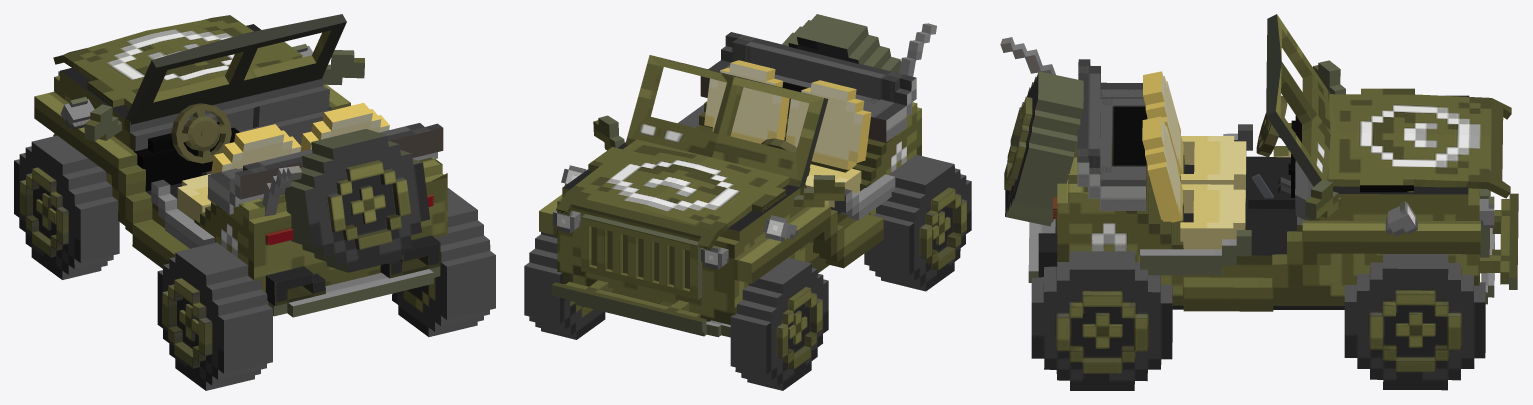
Rendered from drive_jeep.glb.
3 views of the same model, side by side, from view 1: azimuth 30°, elevation 25°; view 2: azimuth 150°, elevation 25°; view 3: azimuth 270°, elevation 25° (orthographic). The views are drawn at different scales.
Visible parts, largest first — view 1: Object_46, Object_4, Object_9, Object_21, Object_44, Object_14, Object_43, Object_12, Object_41, Object_15, Object_6, Object_47 (+20 smaller); view 2: Object_9, Object_4, Object_20, Object_70, Object_17, Object_43, Object_14, Object_12, Object_44, Object_15, Object_58, Object_61 (+22 smaller); view 3: Object_9, Object_4, Object_40, Object_35, Object_38, Object_70, Object_47, Object_7, Object_20, Object_41, Object_36, Object_80 (+20 smaller).
Boxes of the visible parts, box(x1,y1,x2,y2) form: Object_46: box(305, 135, 429, 272); Object_4: box(54, 71, 447, 305); Object_9: box(53, 15, 302, 108); Object_21: box(126, 14, 346, 124); Object_44: box(158, 242, 272, 390); Object_14: box(14, 142, 80, 279); Object_43: box(157, 253, 223, 390); Object_12: box(34, 91, 189, 268); Object_41: box(428, 188, 495, 336); Object_15: box(14, 135, 119, 279); Object_6: box(130, 76, 329, 151); Object_47: box(284, 129, 422, 272); Object_9: box(556, 139, 789, 250); Object_4: box(557, 101, 921, 324); Object_20: box(625, 55, 823, 187); Object_70: box(708, 32, 916, 141); Object_17: box(581, 217, 697, 299); Object_43: box(909, 164, 971, 290); Object_14: box(766, 264, 828, 390); Object_12: box(733, 205, 883, 283); Object_44: box(864, 154, 971, 291); Object_15: box(730, 257, 828, 390); Object_58: box(785, 83, 862, 169); Object_61: box(704, 63, 781, 143); Object_9: box(1328, 88, 1511, 198); Object_4: box(1053, 118, 1479, 305); Object_40: box(1031, 269, 1172, 390); Object_35: box(1344, 268, 1485, 390); Object_38: box(1183, 220, 1480, 311); Object_70: box(1077, 59, 1146, 210); Object_47: box(1005, 71, 1083, 226); Object_7: box(1038, 95, 1469, 309); Object_20: box(1275, 14, 1331, 180); Object_41: box(1031, 251, 1172, 383); Object_36: box(1344, 254, 1485, 377); Object_80: box(1140, 230, 1251, 275).
Size of the model in its own units: 2.8 by 2.35 by 4.2.
24 materials, 3 textured.
